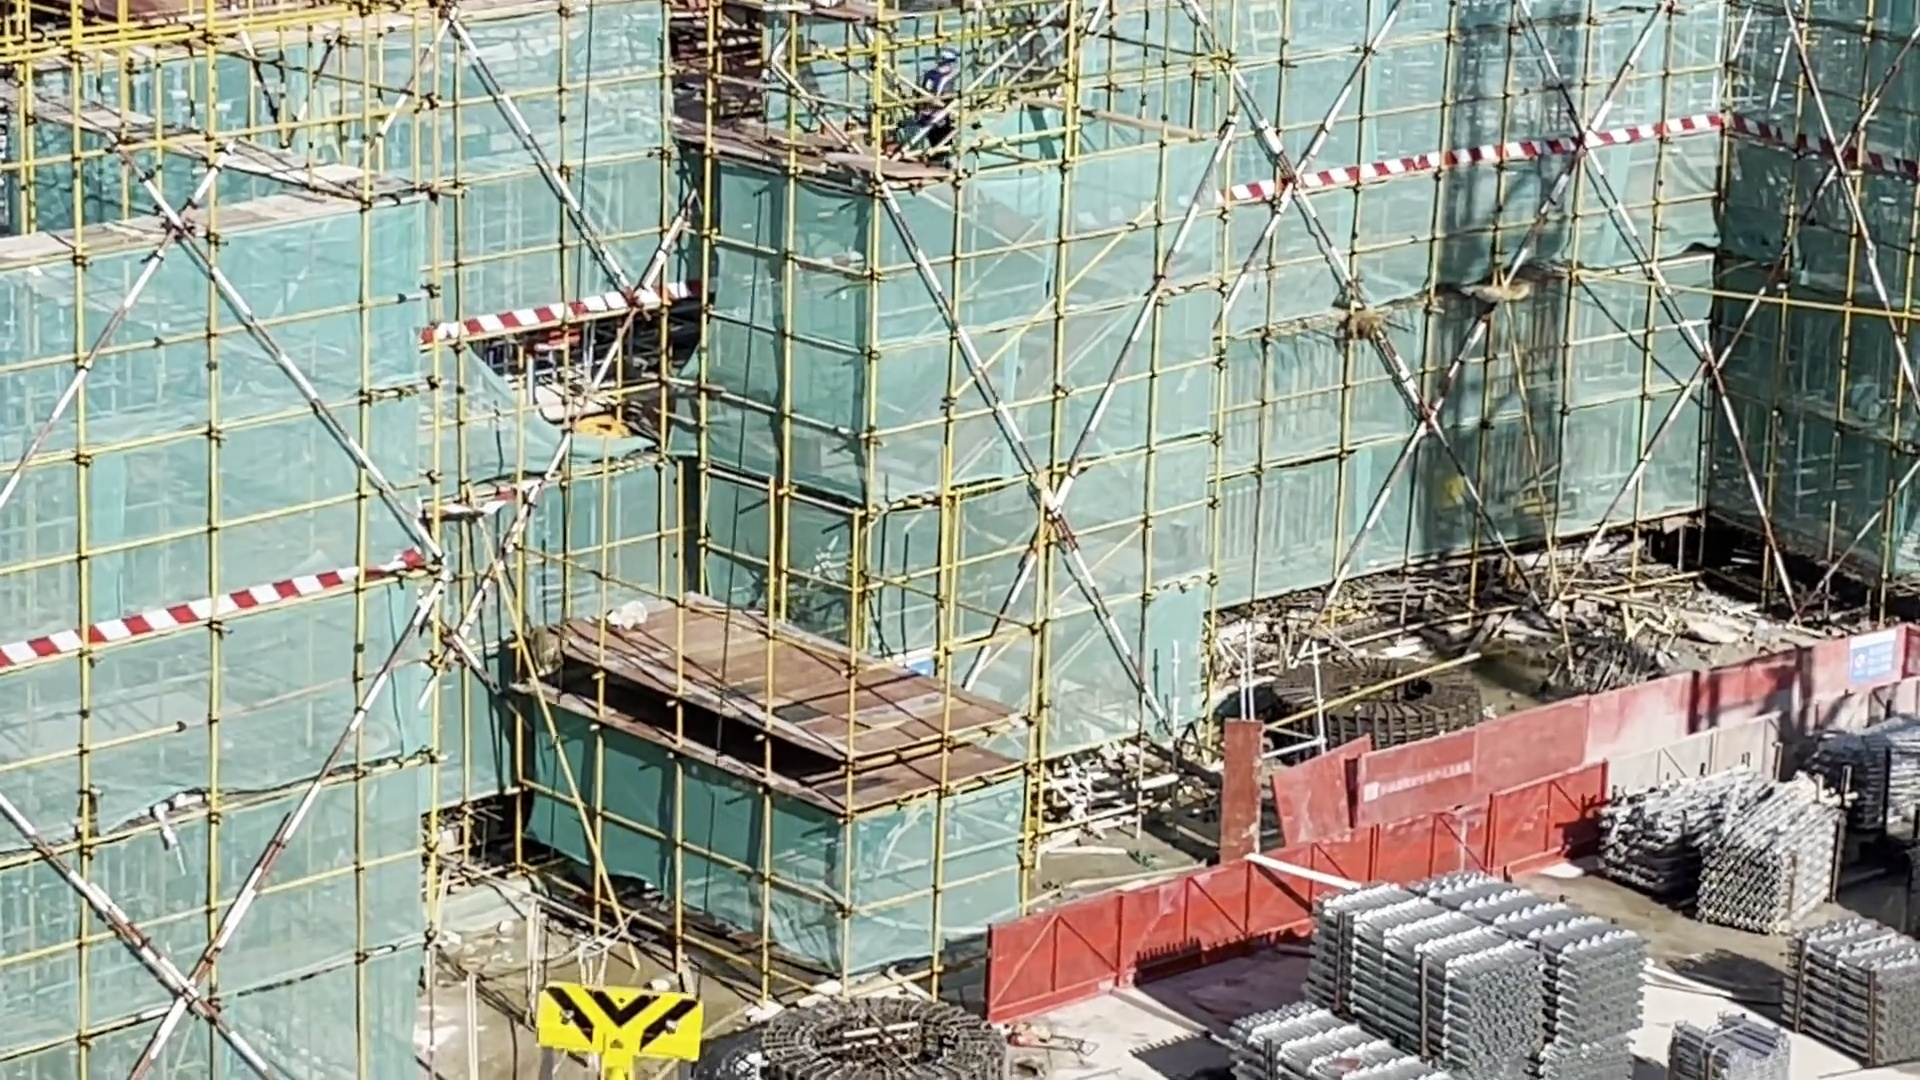fence: (986, 671, 1920, 1028)
hook: (530, 965, 708, 1080)
person: (898, 40, 965, 154)
scaffold: (1228, 875, 1652, 1080), (1580, 746, 1836, 940), (1782, 924, 1920, 1065), (1674, 1019, 1791, 1080)
